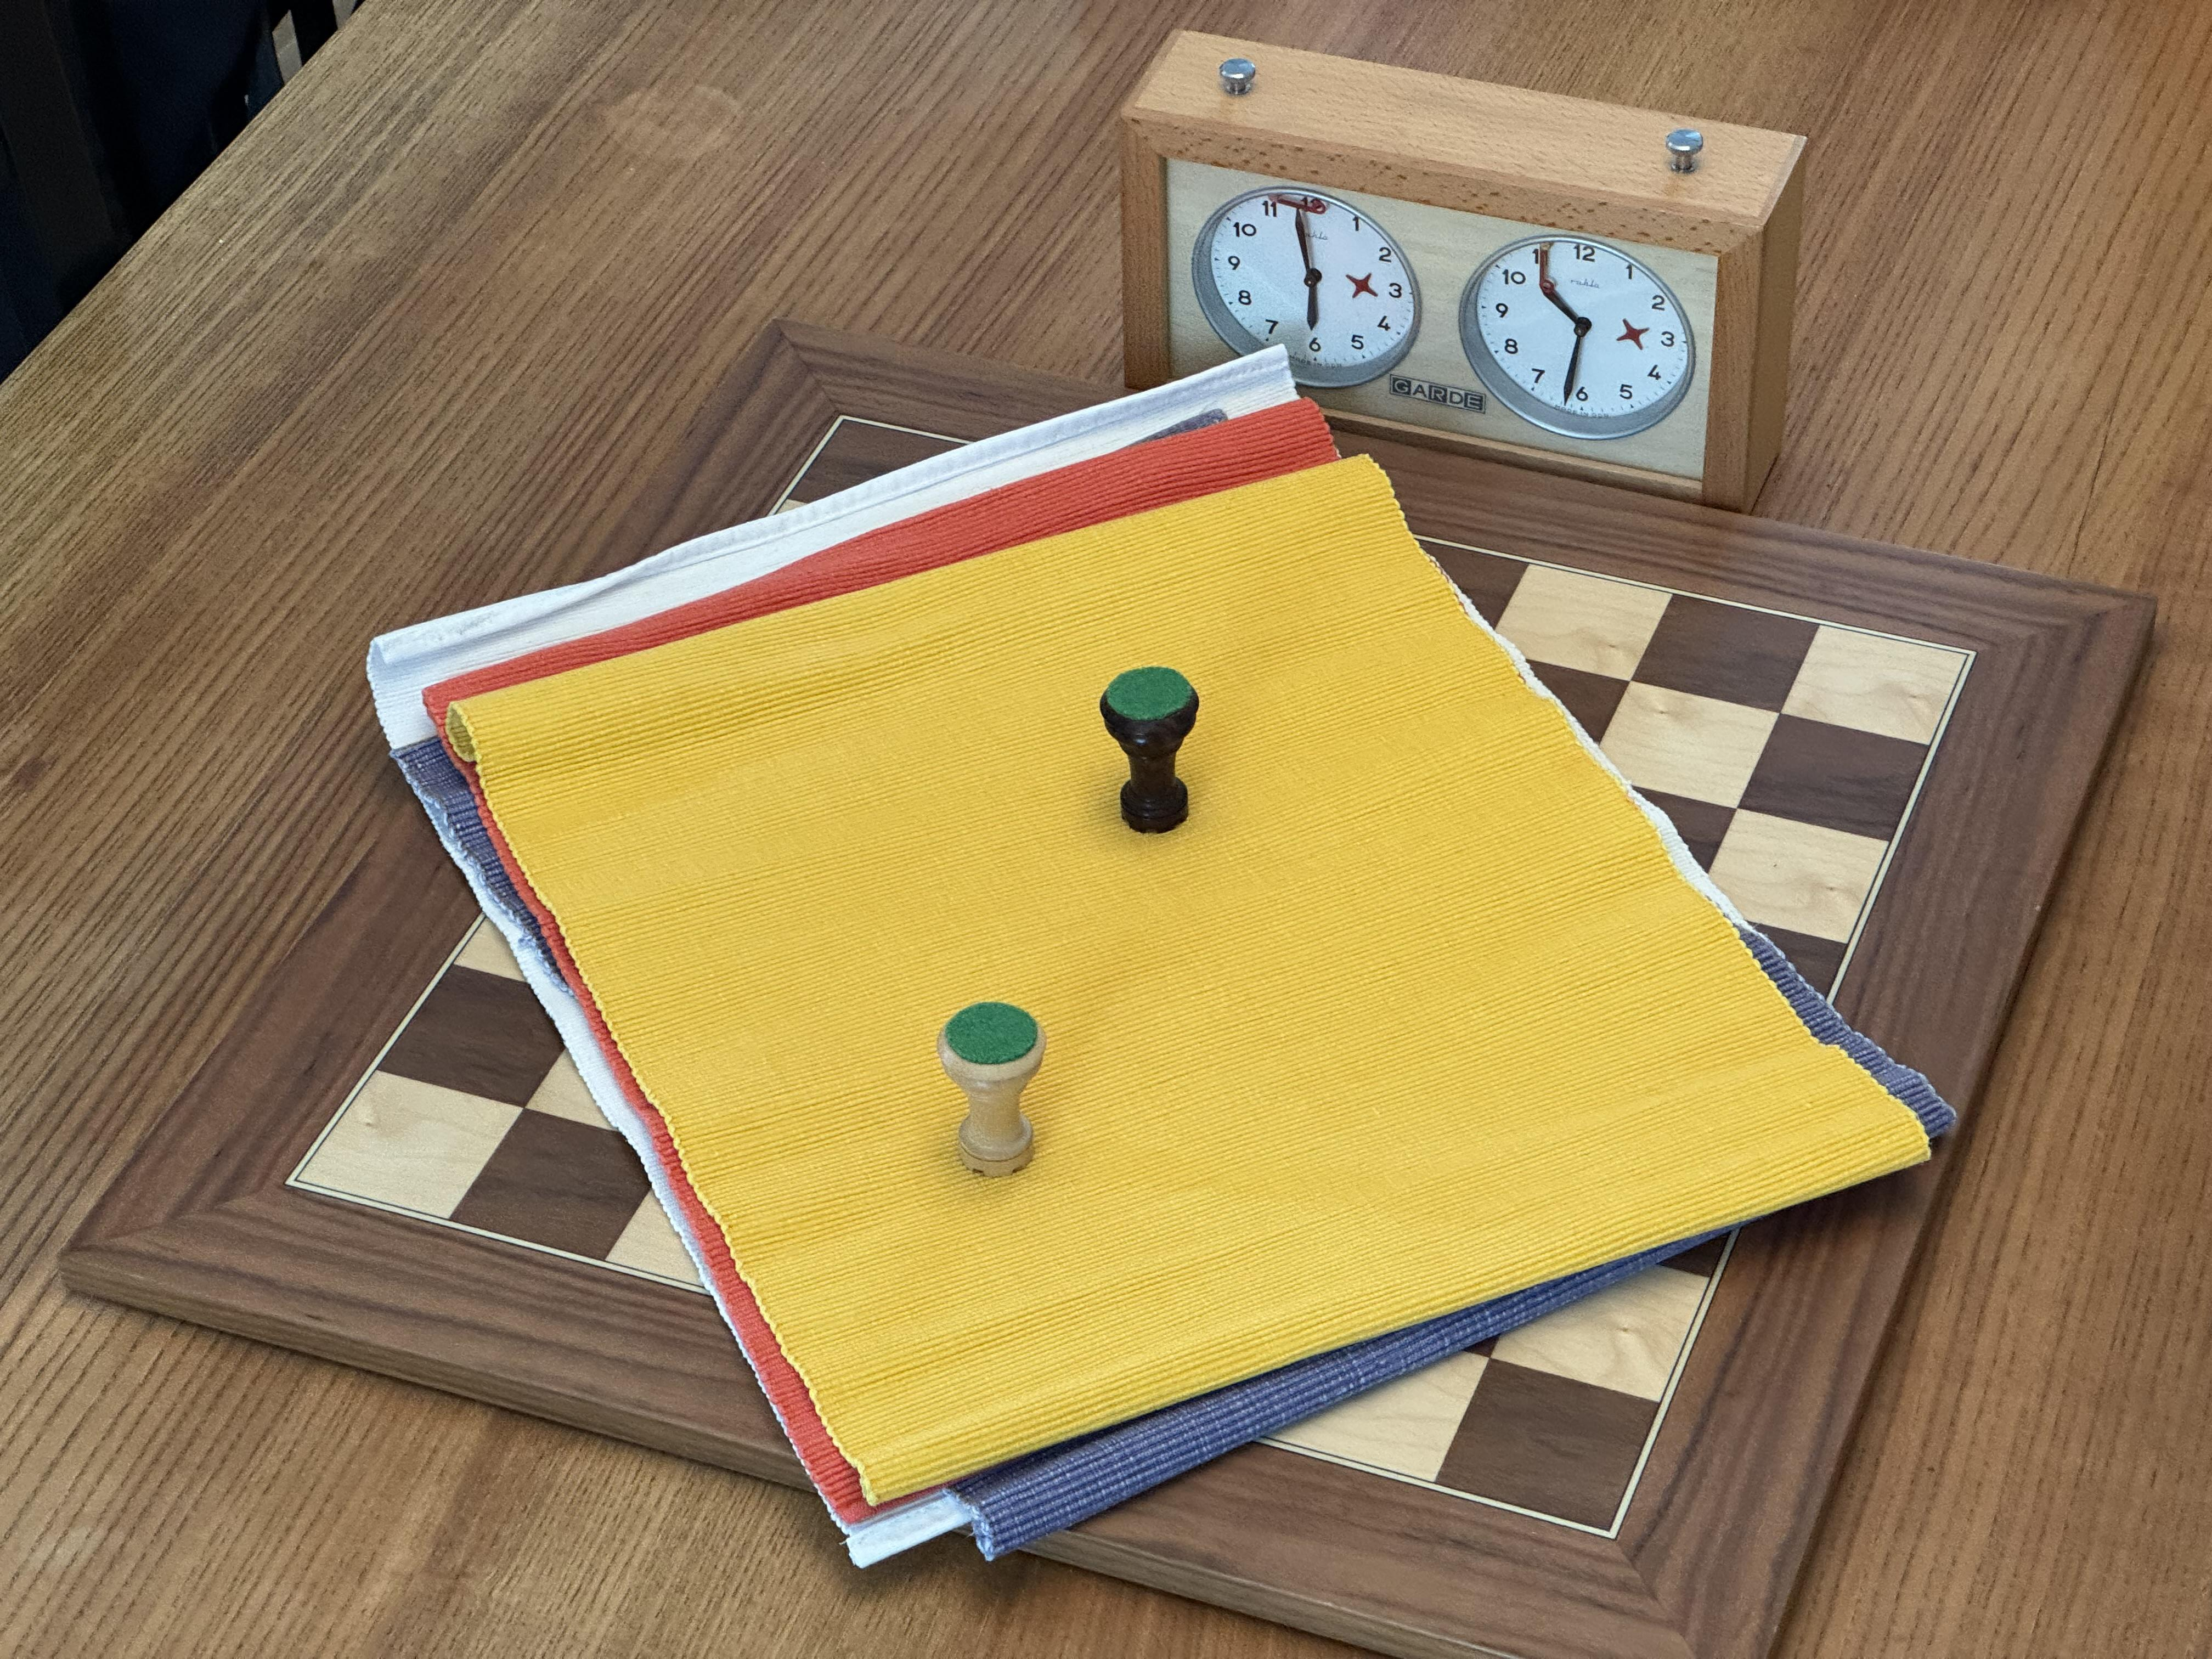Black Extra Queen: (1094, 662, 1204, 836)
White Extra Queen: (932, 993, 1050, 1182)
